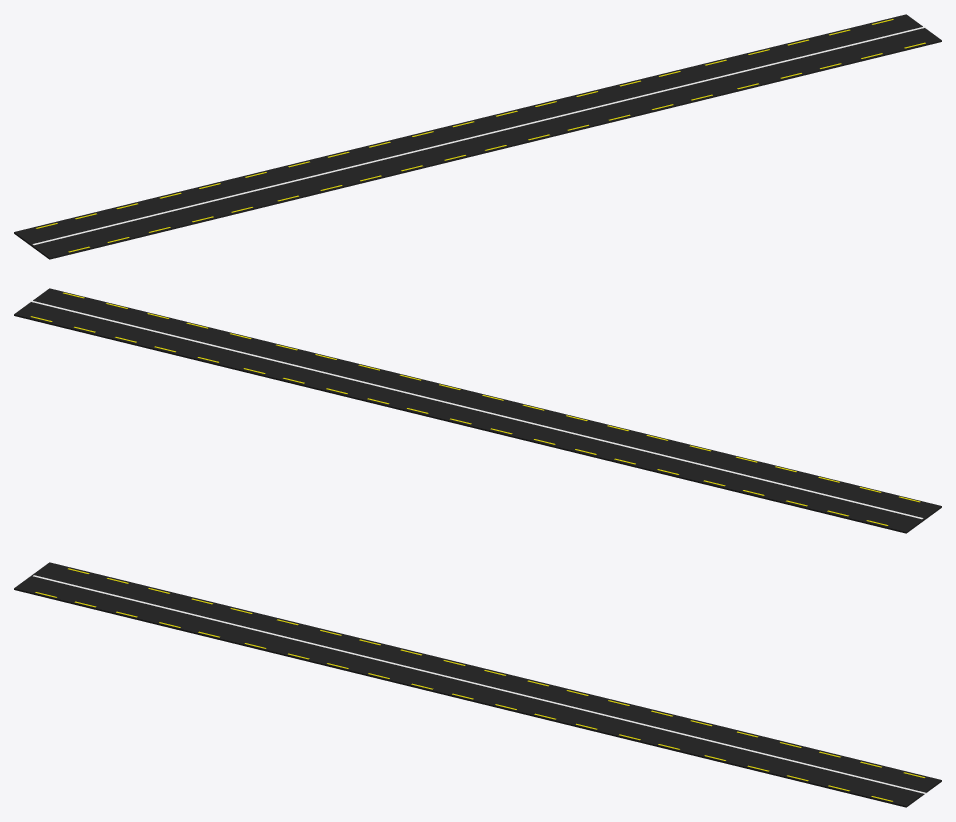
The model's file is road2.glb.
3 renders of one model, top to bottom at view 1: azimuth 30°, elevation 25°; view 2: azimuth 150°, elevation 25°; view 3: azimuth 330°, elevation 25°, orthographic.
Visible parts, largest first — view 1: Cube_0, Plane_1; view 2: Cube_0, Plane_1; view 3: Cube_0, Plane_1.
Boxes of the visible parts, box(x1,y1,x2,y2) form: Cube_0: box(14, 14, 941, 259); Plane_1: box(32, 26, 925, 245); Cube_0: box(14, 288, 941, 533); Plane_1: box(30, 300, 923, 519); Cube_0: box(14, 562, 941, 807); Plane_1: box(33, 575, 925, 793).
Bounding box in the file's own units: 248 × 0.4332 × 17.12.
